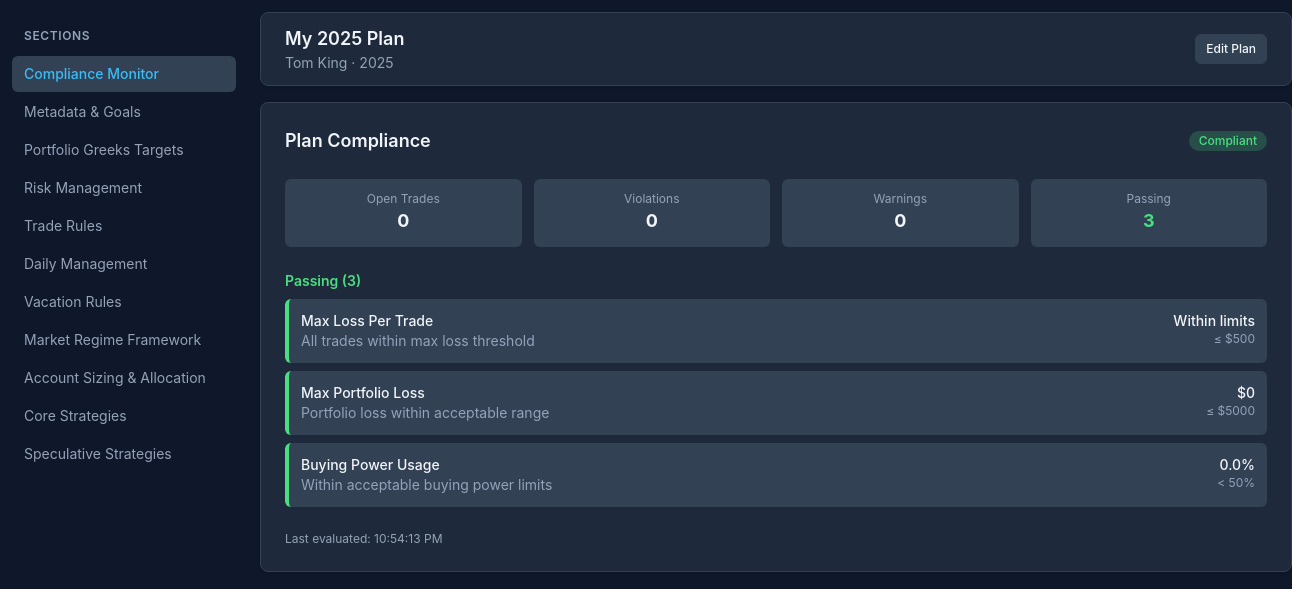
PlanViewer › navigates to Daily Management section with separate checklists
What coordinates should you click on to do the following:
click the button "Daily Management"
I would click on:
 (124, 264)
Its box is x1=12 y1=246 x2=236 y2=282.
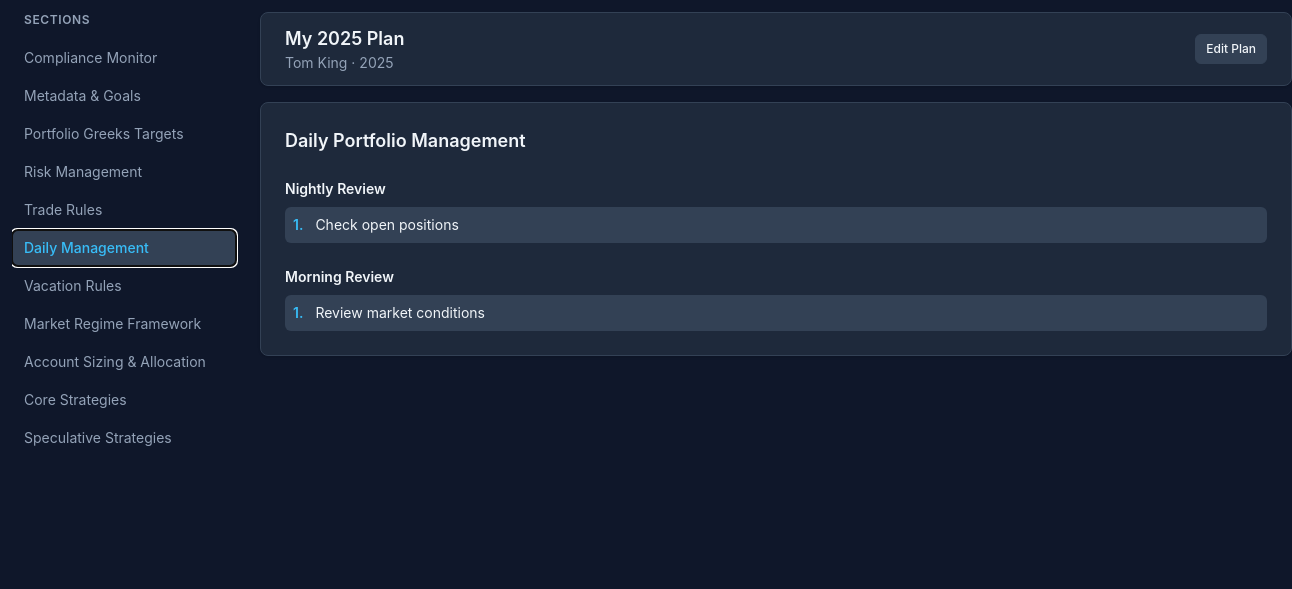
expect the heading "Nightly Review" is shown: met, box x1=285 y1=180 x2=386 y2=197
expect the text "Check open positions" is shown: met, box x1=315 y1=215 x2=459 y2=235
expect the heading "Morning Review" is shown: met, box x1=285 y1=268 x2=394 y2=285
